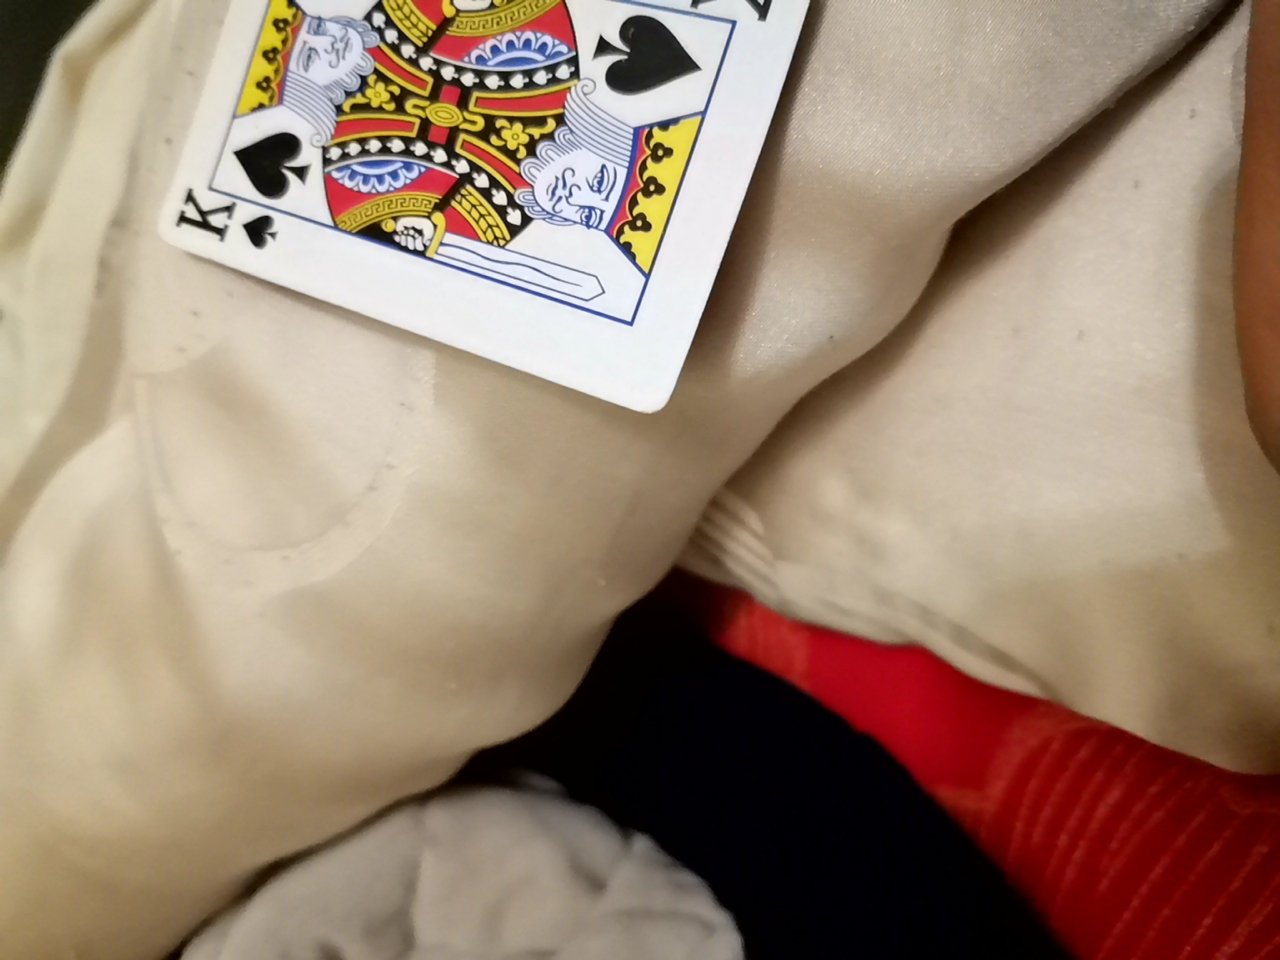ht k: (169, 0, 823, 408)
